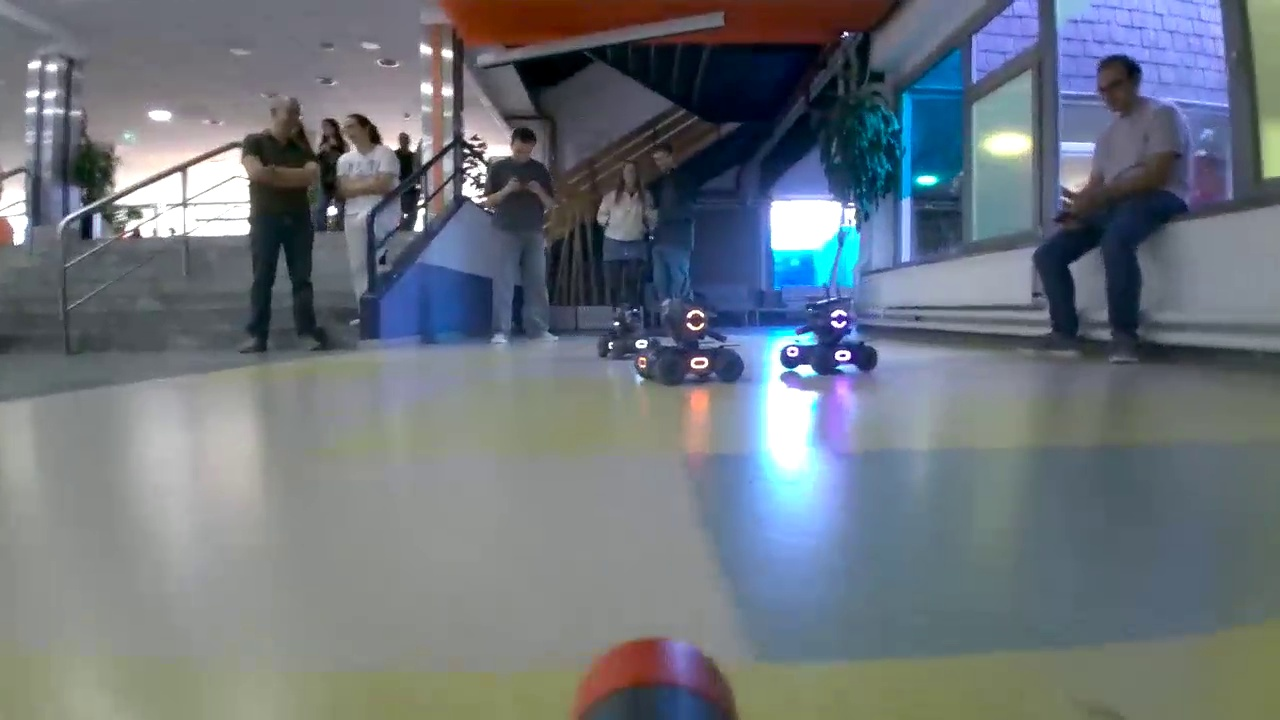robot: (779, 302, 878, 378), (664, 304, 738, 384), (596, 300, 652, 356)
